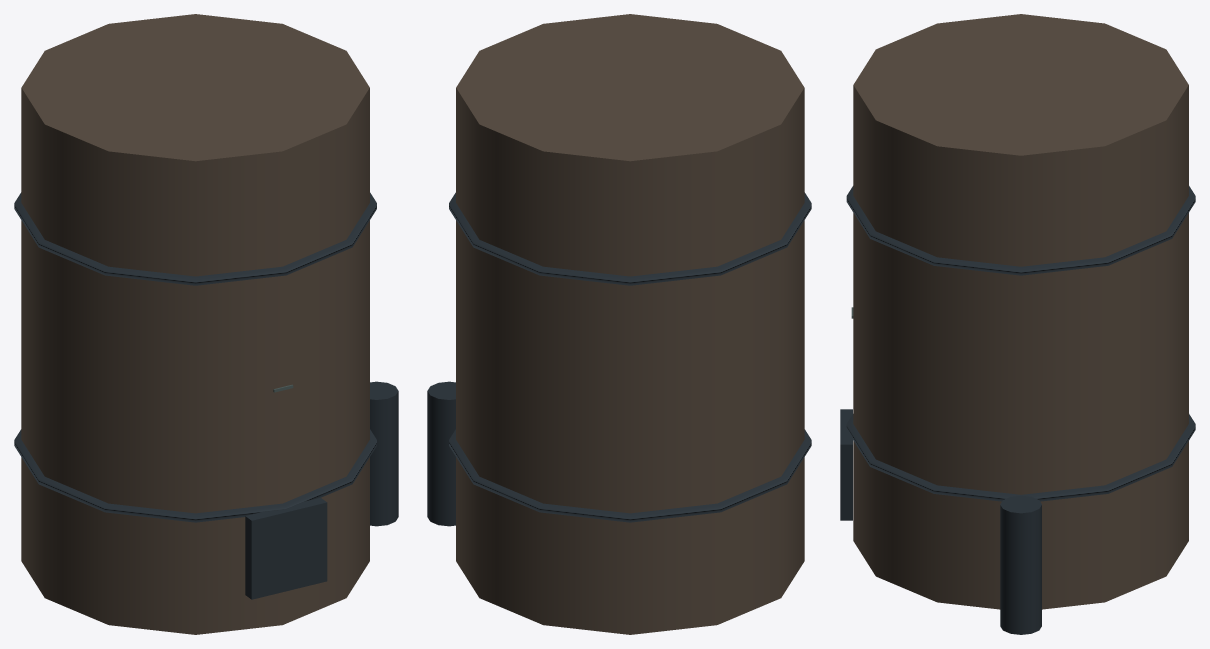
The model's file is tank-3.glb.
3 renders of one model, left to right at view 1: azimuth 30°, elevation 25°; view 2: azimuth 150°, elevation 25°; view 3: azimuth 270°, elevation 25°, orthographic. The views are drawn at different scales.
Visible parts, largest first — view 1: tank/2/KR-230-3; view 2: tank/2/KR-230-3; view 3: tank/2/KR-230-3.
Part boxes in pixels (x1,y1,x2,y2): tank/2/KR-230-3: (14, 14, 398, 634); tank/2/KR-230-3: (427, 14, 811, 634); tank/2/KR-230-3: (840, 14, 1195, 634).
Bounding box in the file's own units: 4.73 × 6 × 4.23.
